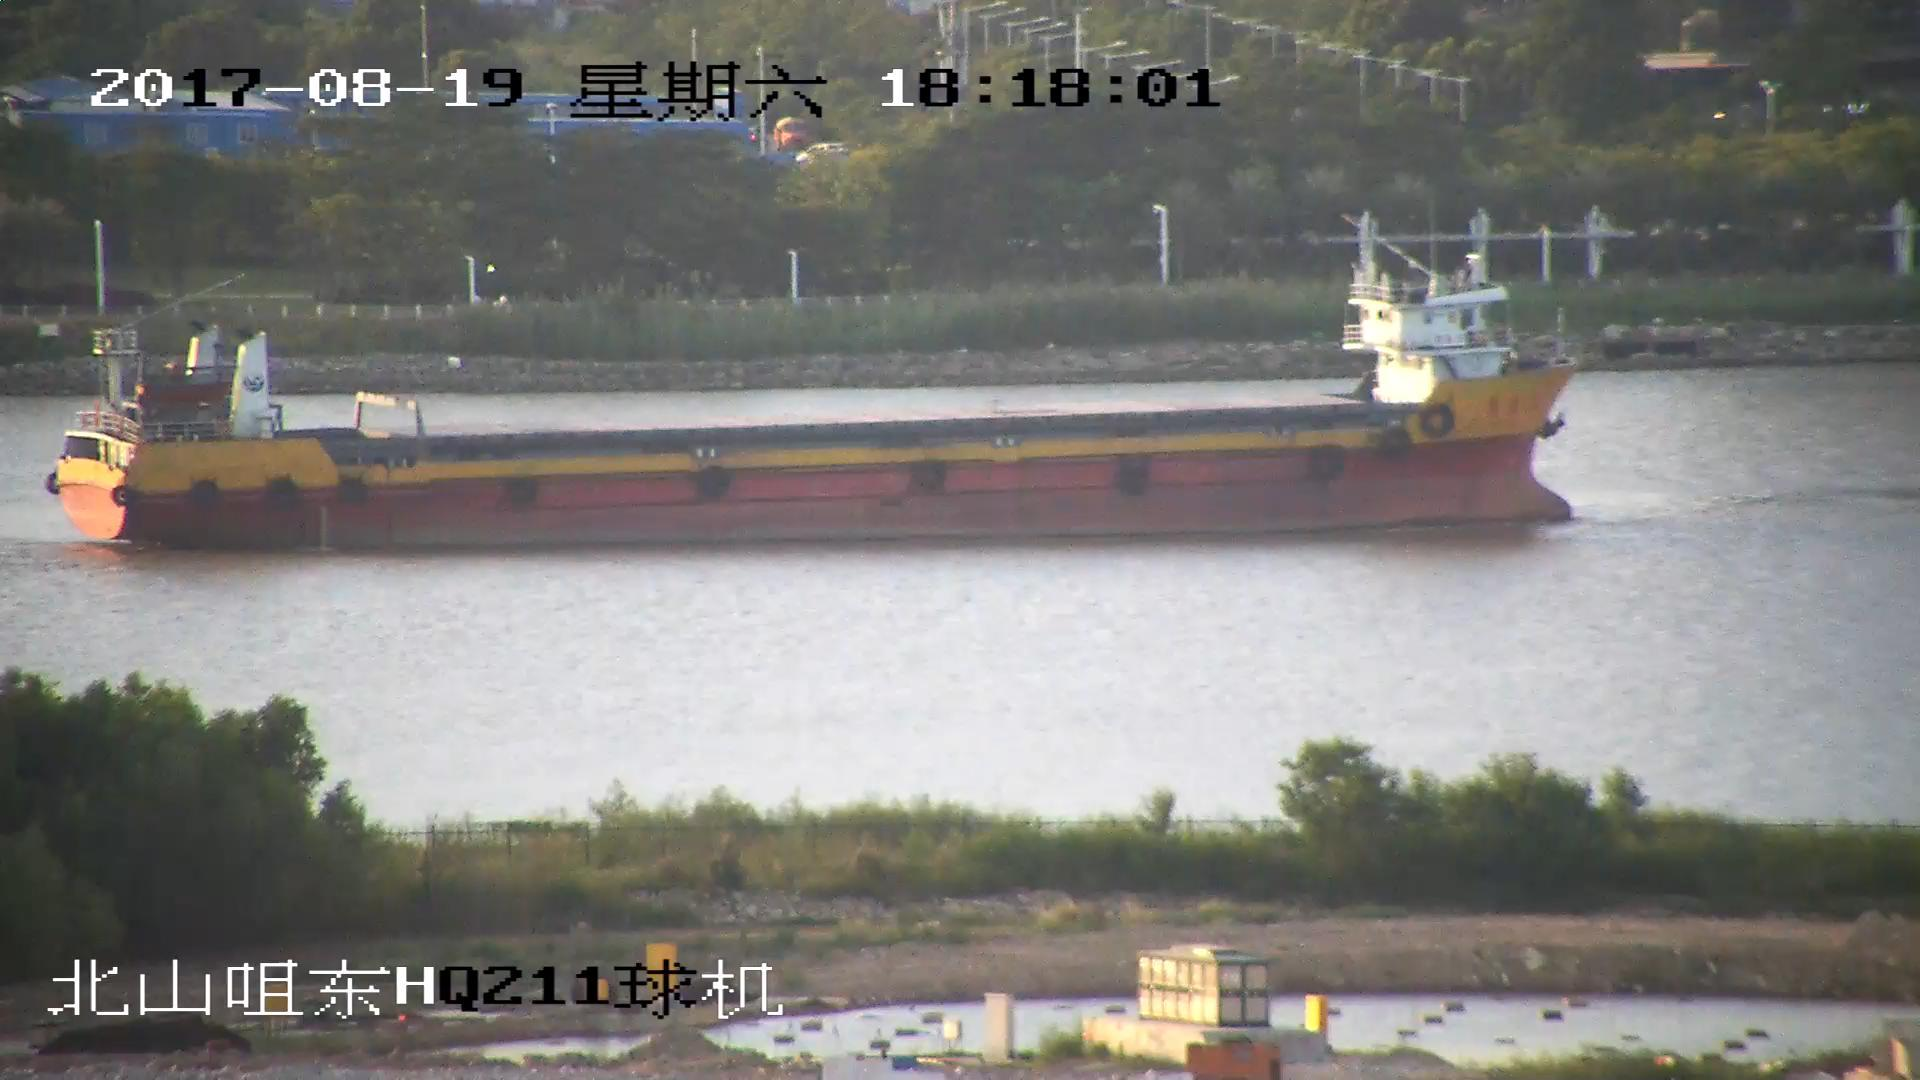Ship: (47, 247, 1575, 554)
